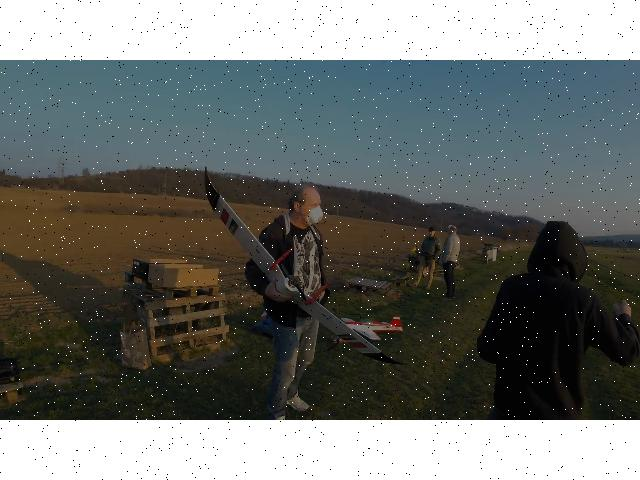Anti-Drone: (192, 166, 404, 368)
